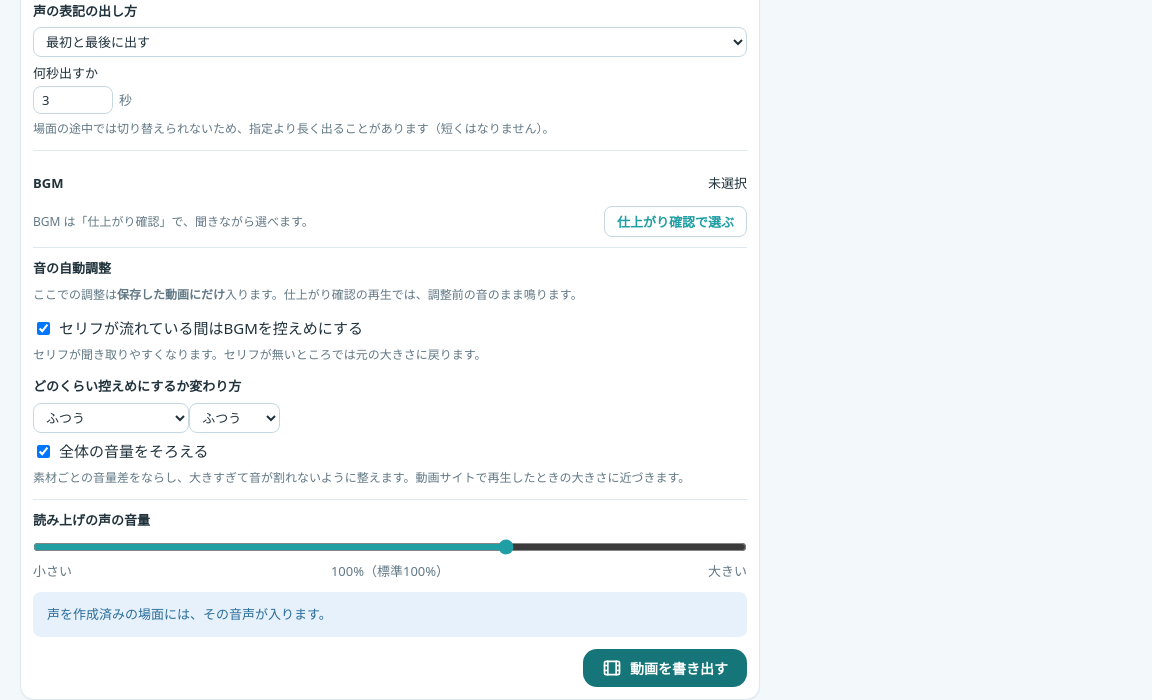
Scenario: ExportScreen 取り込み中は書き出しを始めない（#570 P1・相互排他） › 取り込み中に「動画を書き出す」を押すと理由を出して止まり、beginExport を呼ばない
(page scrolled)
Click the button "動画を書き出す" at [665, 668], box x1=583 y1=649 x2=747 y2=687
(page scrolled)
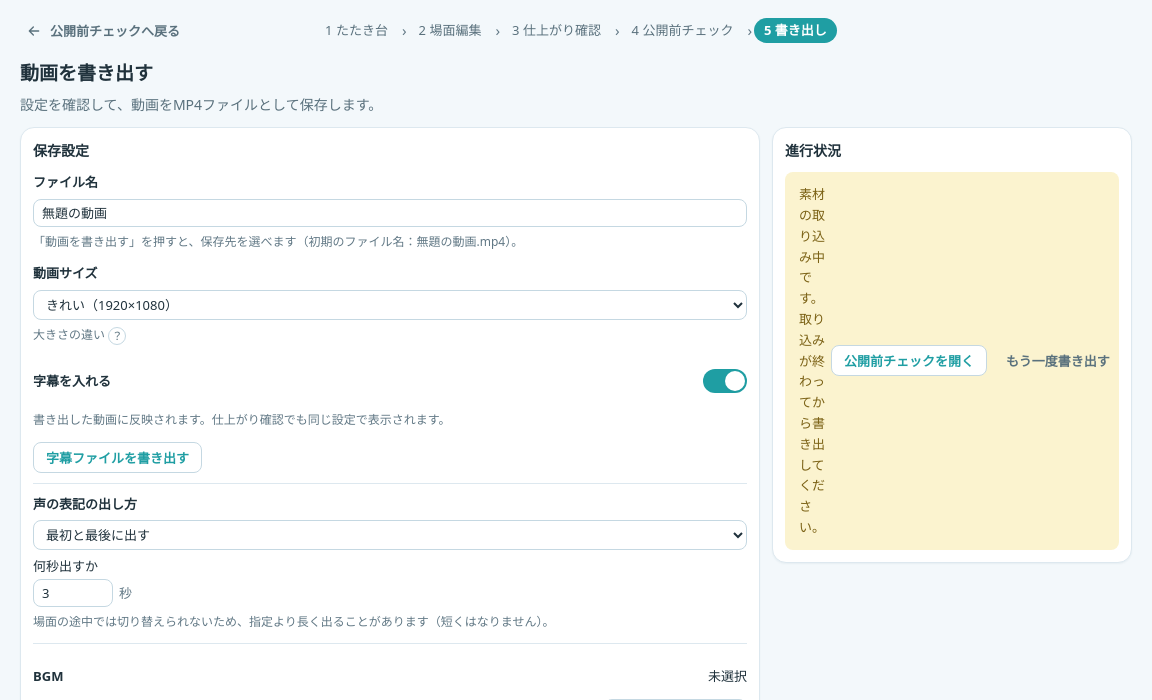
Result: the text "素材の取り込み中です。取り込みが終わってから書き出してください。" is shown at x1=799 y1=184 x2=825 y2=538
